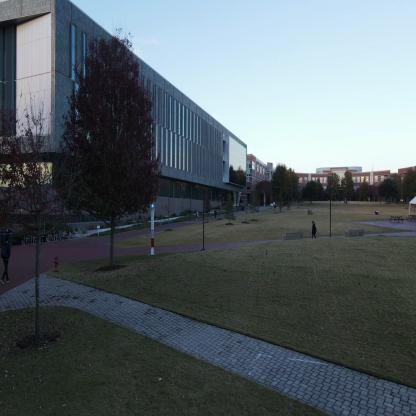EB-1: (247, 144, 276, 226)
Fitts- Woolard: (0, 1, 247, 289)
